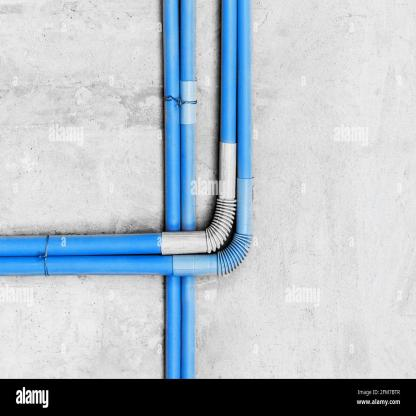PVC: (1, 0, 252, 378)
